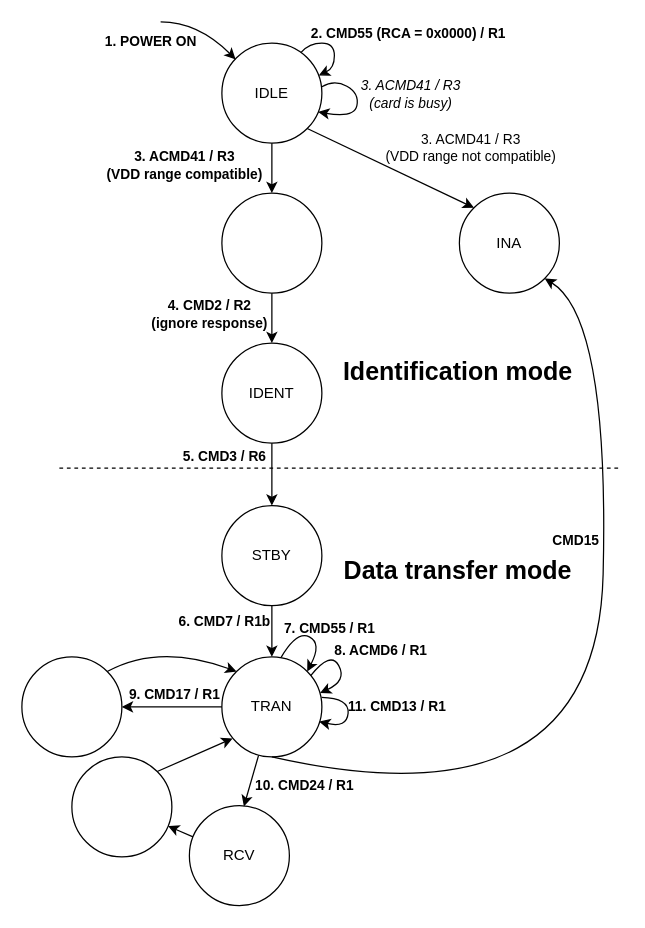
Image size: 645x928. Some labels were removed from this diagram. The shapes that lost their labels are listed below. From the top down, each one's box as (x1, y1, x2, y2) in pixels, then its label:
(221, 192, 322, 293): READY
(21, 656, 122, 757): DATA
(71, 756, 172, 857): PRG
